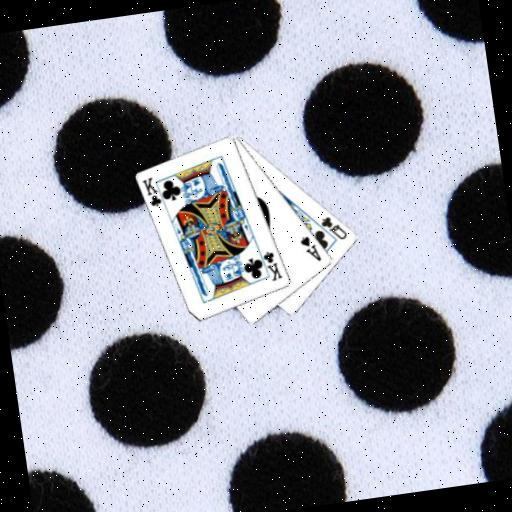AS: (297, 232, 324, 265)
KC: (255, 245, 285, 284), (139, 173, 168, 211)
QC: (318, 211, 350, 244)
